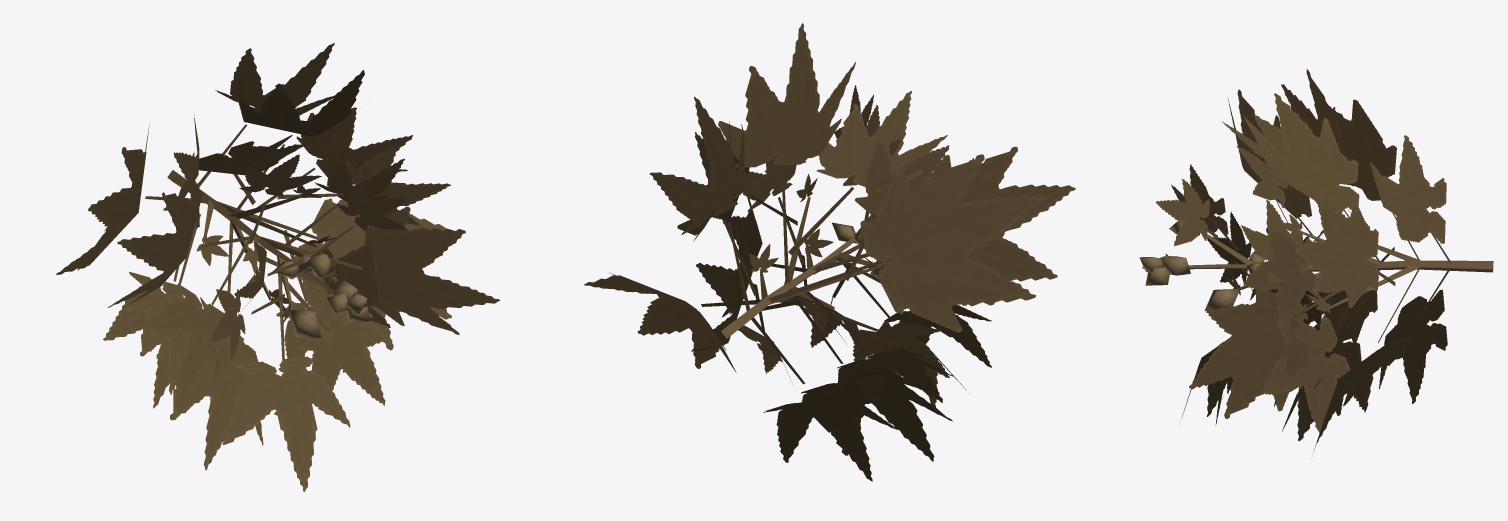
The model's file is p_male_kush_preflower_c3_cards.obj.
3 renders of one model, left to right at view 1: azimuth 30°, elevation 25°; view 2: azimuth 150°, elevation 25°; view 3: azimuth 270°, elevation 25°, orthographic. The views are drawn at different scales.
Bounding box in the file's own units: 1.77 × 1.46 × 1.12.
Materials: 1 (1 with a texture image).
